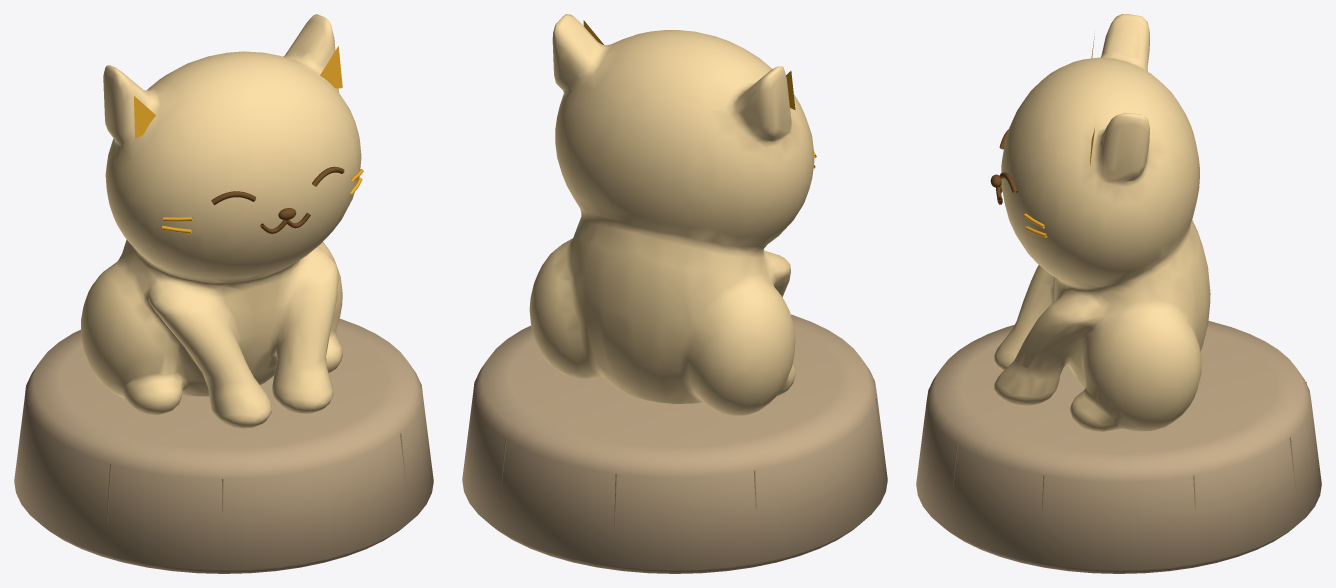
The model's file is cream_cat_round_plinth.glb.
3 renders of one model, left to right at view 1: azimuth 30°, elevation 25°; view 2: azimuth 150°, elevation 25°; view 3: azimuth 270°, elevation 25°, orthographic. The views are drawn at different scales.
Visible parts, largest first — view 1: continuous_sculpted_cat, stone_pedestal, inner_ear, inner_ear.001; view 2: continuous_sculpted_cat, stone_pedestal; view 3: stone_pedestal, continuous_sculpted_cat.
Part boxes in pixels (bbox=[...]): continuous_sculpted_cat: bbox=[81, 14, 361, 428]; stone_pedestal: bbox=[14, 318, 433, 573]; inner_ear: bbox=[134, 96, 155, 138]; inner_ear.001: bbox=[320, 46, 342, 88]; continuous_sculpted_cat: bbox=[529, 14, 814, 415]; stone_pedestal: bbox=[462, 314, 887, 573]; stone_pedestal: bbox=[916, 321, 1321, 573]; continuous_sculpted_cat: bbox=[994, 14, 1210, 431].
Bounding box in the file's own units: 0.645 × 0.75 × 0.645.
